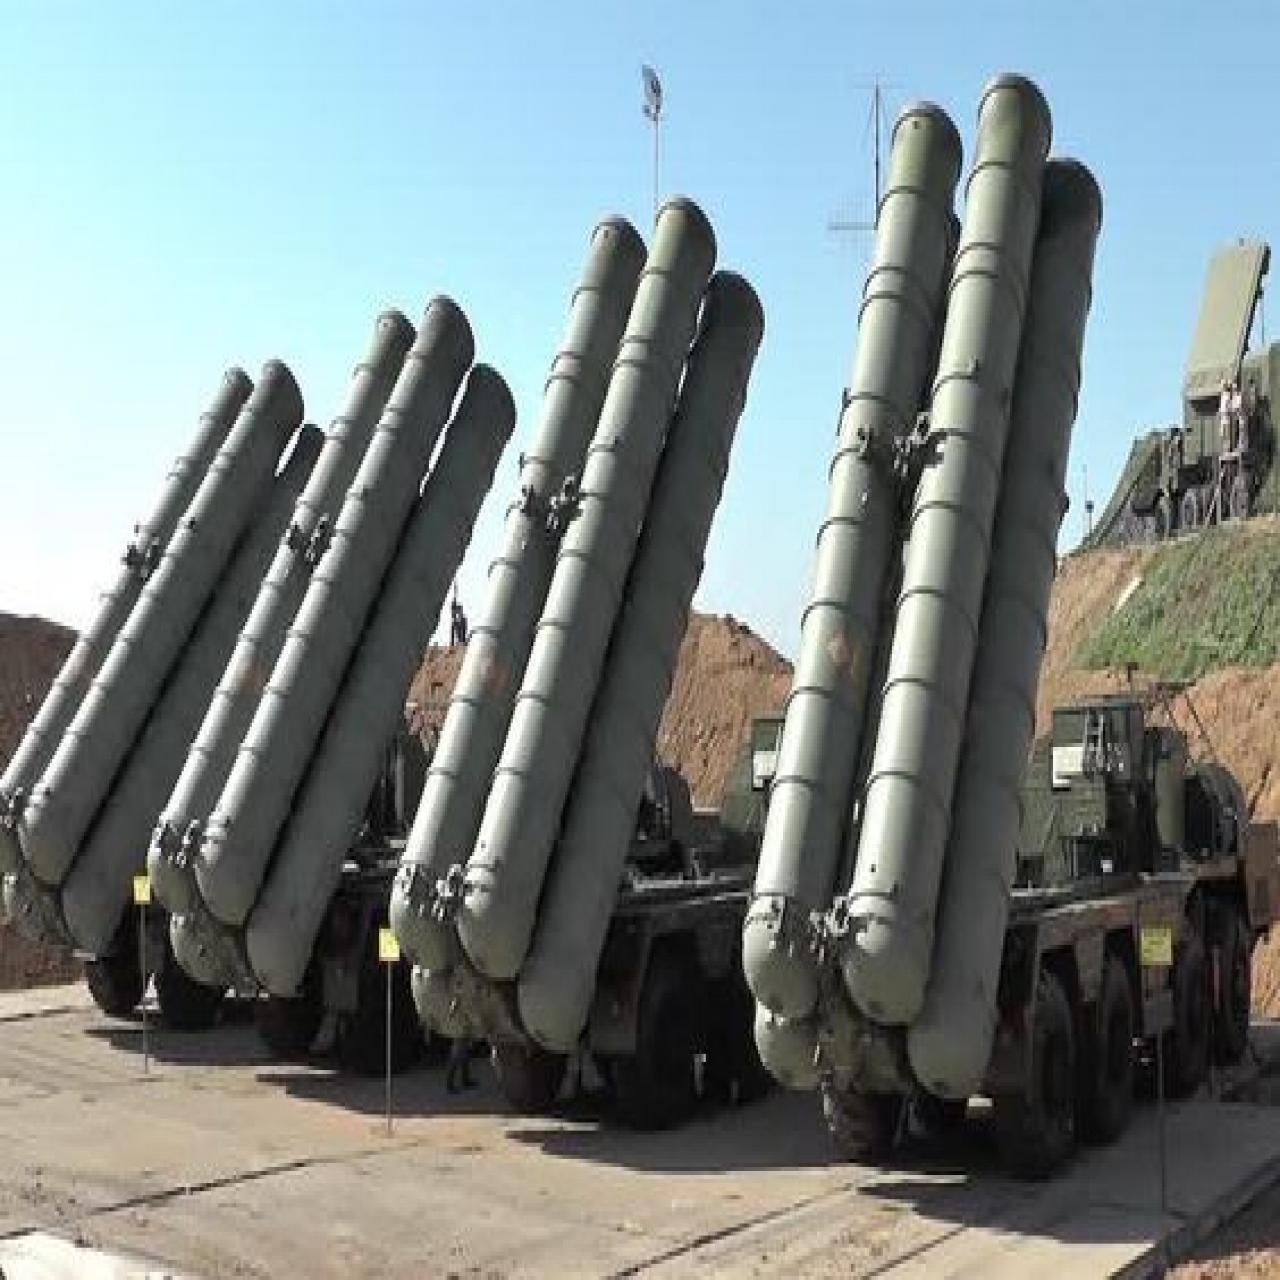MIL_Veh: (757, 70, 1272, 1182), (402, 142, 774, 1124), (149, 271, 524, 1090), (0, 346, 335, 1062)
